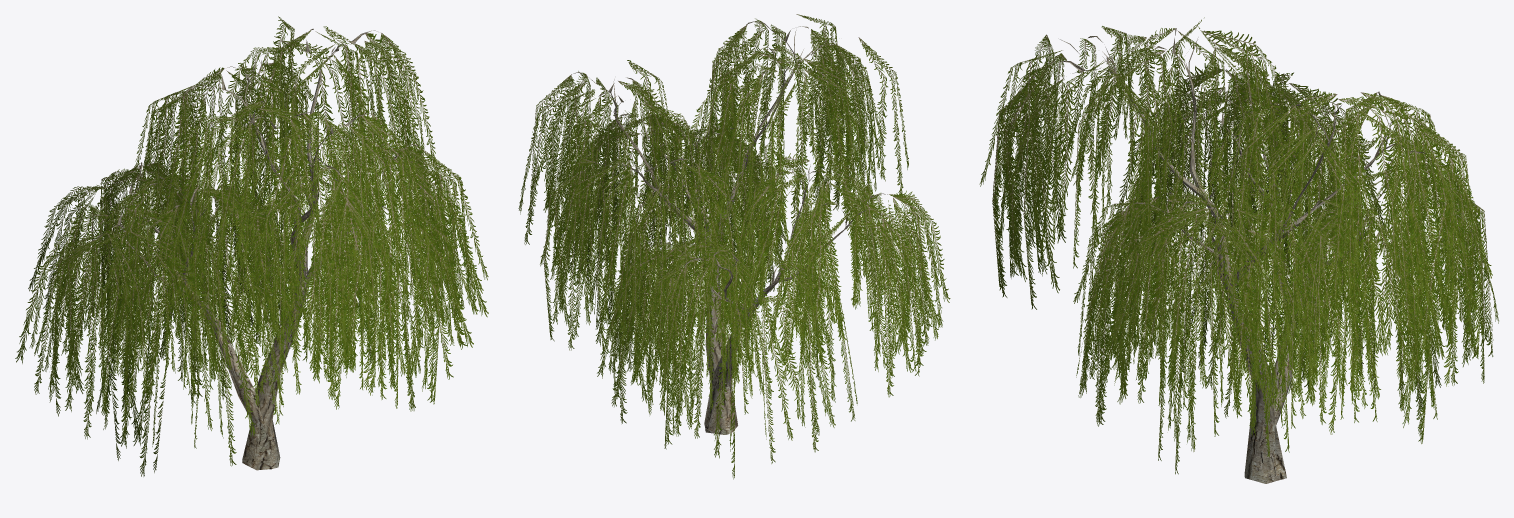
The model's file is cay-lieu.glb.
3 views of the same model, side by side, from view 1: azimuth 30°, elevation 25°; view 2: azimuth 150°, elevation 25°; view 3: azimuth 270°, elevation 25° (orthographic). The views are drawn at different scales.
Visible parts, largest first — view 1: willow branch_1_willow branch_1Mat_0, bark10_0_bark10_0Mat_0; view 2: willow branch_1_willow branch_1Mat_0, bark10_0_bark10_0Mat_0; view 3: willow branch_1_willow branch_1Mat_0, bark10_0_bark10_0Mat_0.
Part boxes in pixels (box(x1,y1,x2,y2)): willow branch_1_willow branch_1Mat_0: box(15, 16, 488, 476); bark10_0_bark10_0Mat_0: box(96, 28, 418, 470); willow branch_1_willow branch_1Mat_0: box(518, 14, 950, 479); bark10_0_bark10_0Mat_0: box(573, 21, 887, 434); willow branch_1_willow branch_1Mat_0: box(979, 17, 1498, 474); bark10_0_bark10_0Mat_0: box(1029, 28, 1440, 483).
Bounding box in the file's own units: 1 × 0.9272 × 0.9767.
2 materials, 2 textured.
